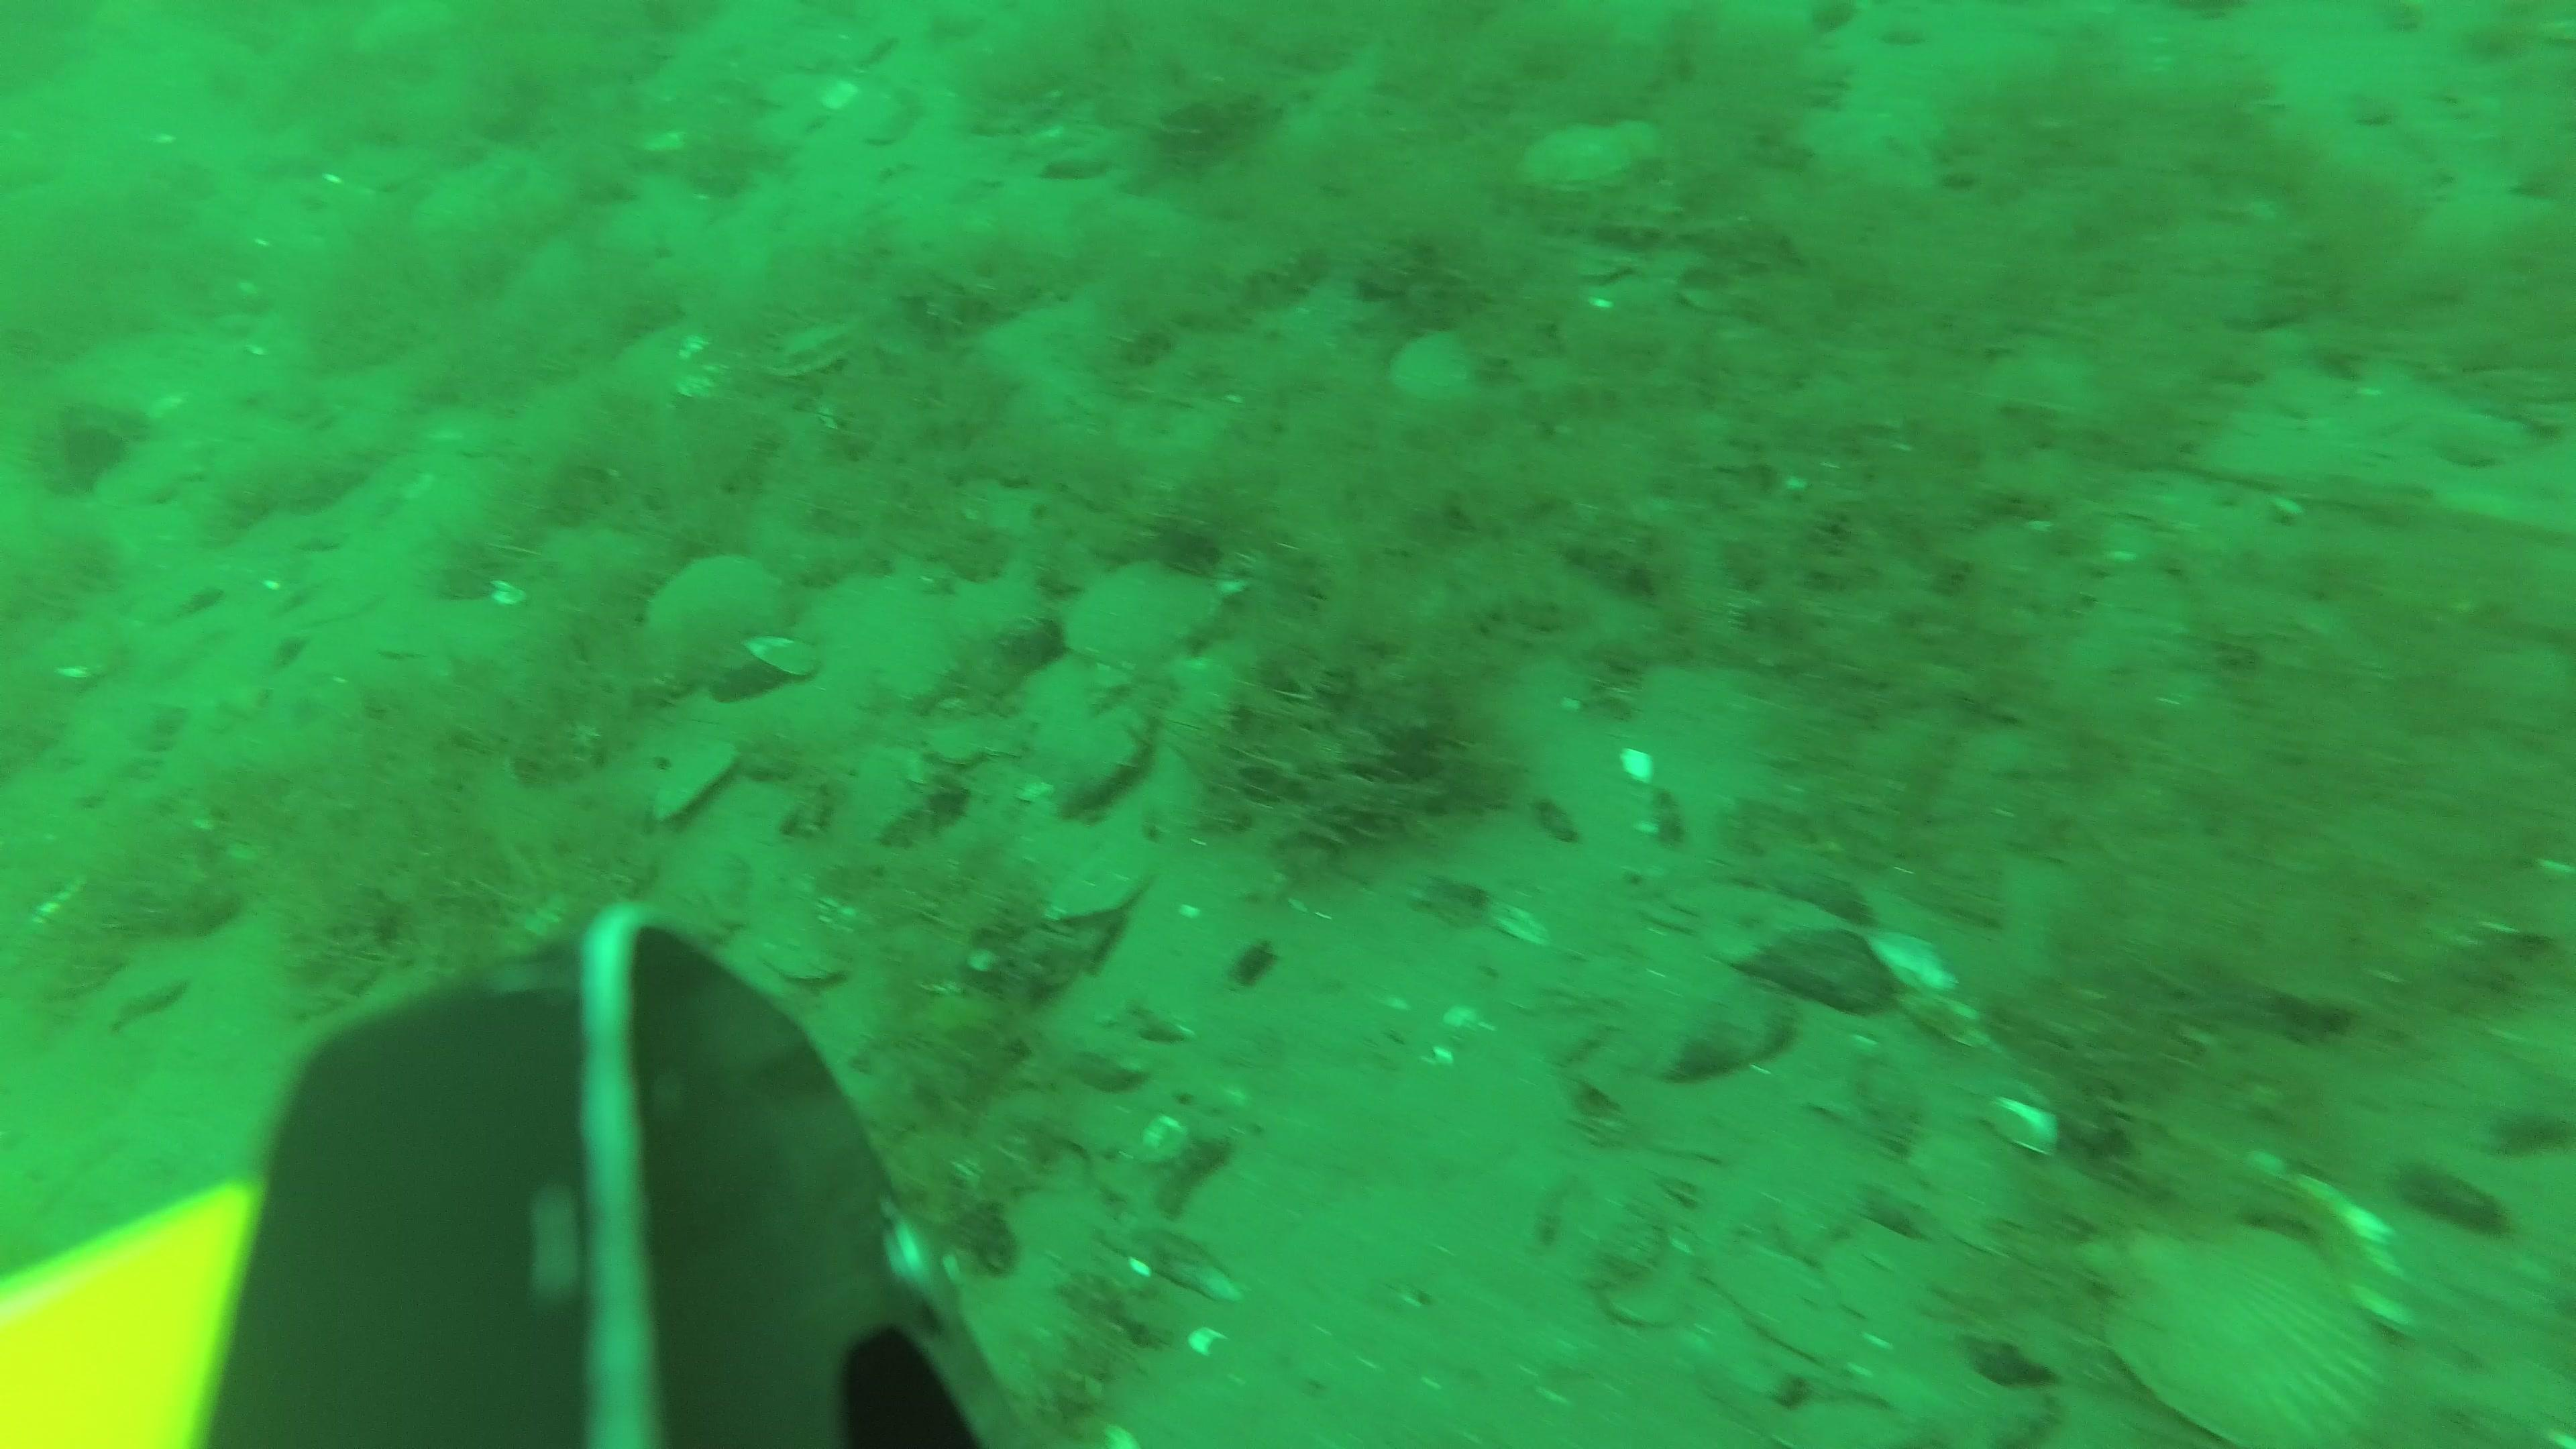scallop: (2077, 1207, 2401, 1449), (996, 655, 1155, 810), (1060, 554, 1224, 694), (644, 547, 803, 690), (688, 653, 881, 763), (1518, 110, 1677, 203), (1384, 318, 1507, 416), (759, 306, 893, 393), (922, 702, 1033, 763), (648, 752, 732, 826), (667, 329, 755, 398)
